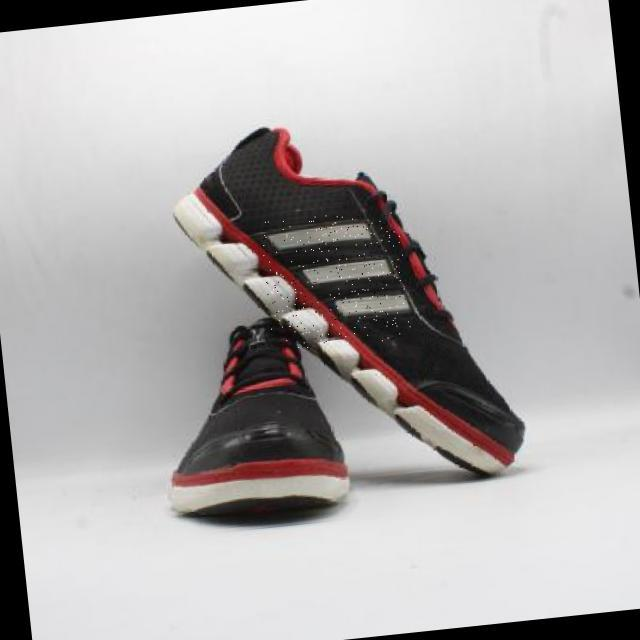Adidas: (260, 206, 412, 352)
